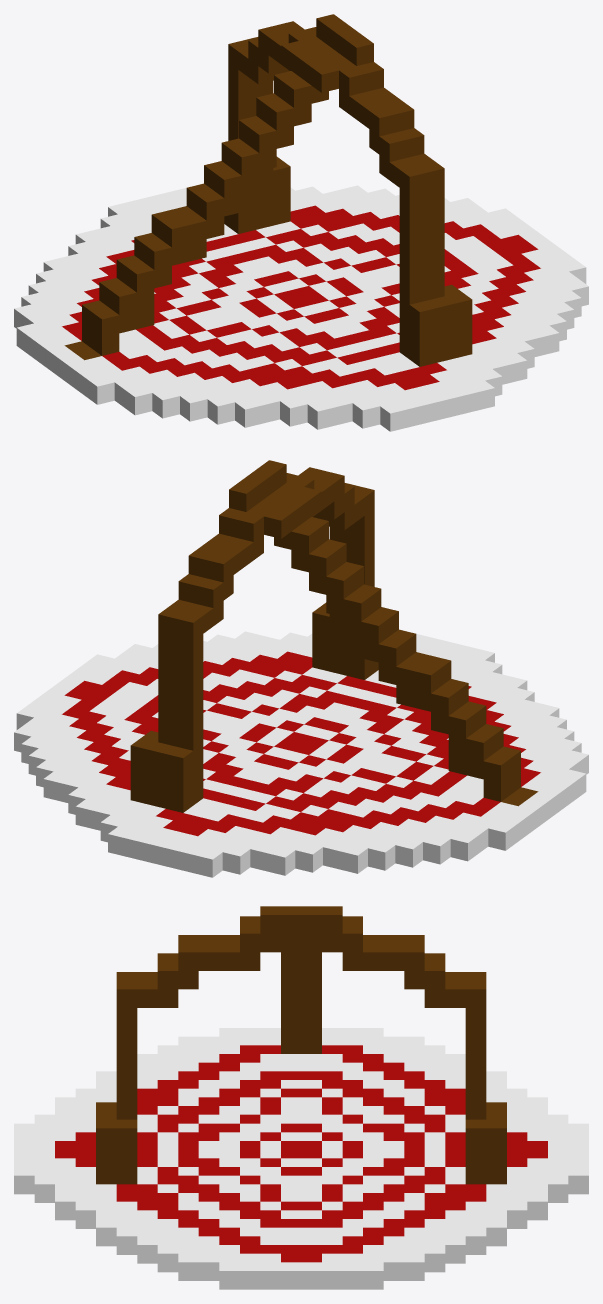
File: bULLSEYS.gltf
The picture shows the model from 3 angles, top to bottom: view 1: azimuth 30°, elevation 25°; view 2: azimuth 150°, elevation 25°; view 3: azimuth 270°, elevation 25°; orthographic projection.
Visible parts, largest first — view 1: Layer.2, Layer.1; view 2: Layer.2, Layer.1; view 3: Layer.2, Layer.1.
Boxes of the visible parts, x1,y1,x2,y2 form: Layer.2: (14,185,588,431); Layer.1: (64,14,472,366); Layer.2: (14,631,588,877); Layer.1: (130,460,538,812); Layer.2: (14,1028,588,1289); Layer.1: (96,906,506,1184).
Bounding box in the file's own units: 28 × 15 × 28.
Materials: 1 (1 with a texture image).
